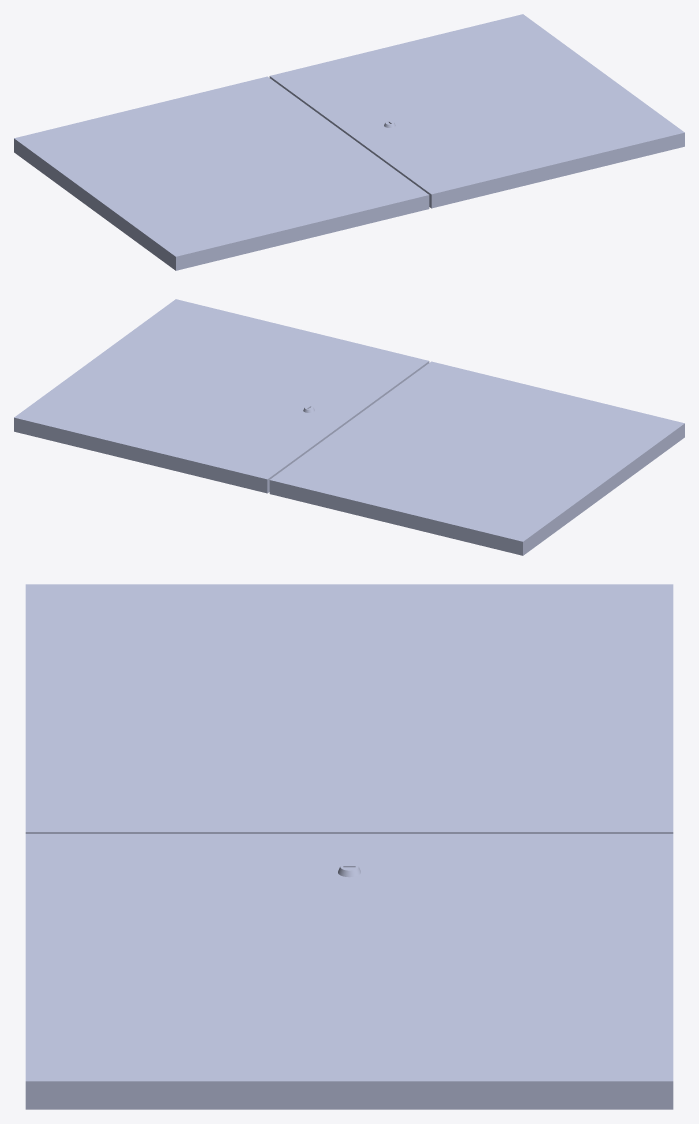
The model's file is Door Wallmount - 40in..fbx.
The picture shows the model from 3 angles, top to bottom: view 1: azimuth 30°, elevation 25°; view 2: azimuth 150°, elevation 25°; view 3: azimuth 270°, elevation 25°; orthographic projection. The views are drawn at different scales.
Visible parts, largest first — view 1: Body_2, Body_1; view 2: Body_2, Body_1; view 3: Body_1, Body_2.
Boxes of the visible parts, x1,y1,x2,y2 form: Body_2: (14,76,429,270); Body_1: (269,14,684,208); Body_2: (269,361,684,555); Body_1: (14,299,429,493); Body_1: (25,834,673,1109); Body_2: (25,584,673,833).
Size of the model in its own units: 0.9612 by 0.5294 by 0.0305.
